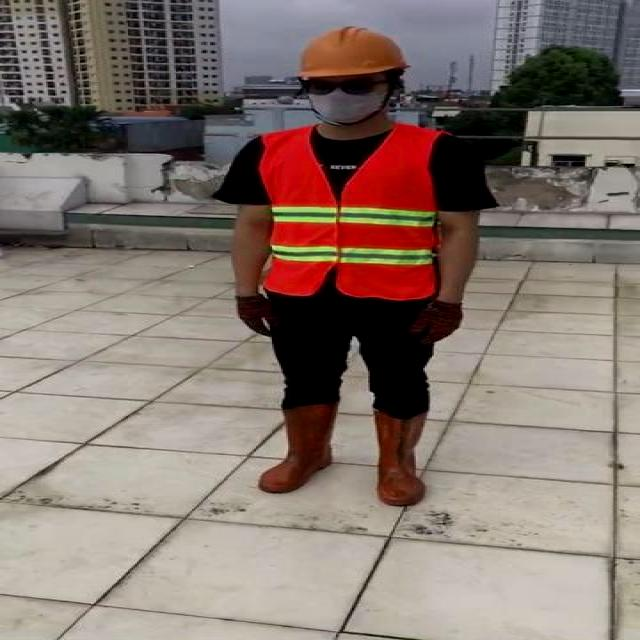boots: (260, 401, 338, 495), (368, 408, 430, 506)
face_mask: (292, 70, 396, 130)
glasses: (297, 73, 389, 103)
hand_glove: (409, 306, 466, 343), (236, 295, 281, 336)
head_helmet: (291, 22, 415, 83)
person: (219, 20, 481, 517)
vest: (262, 126, 438, 301)
